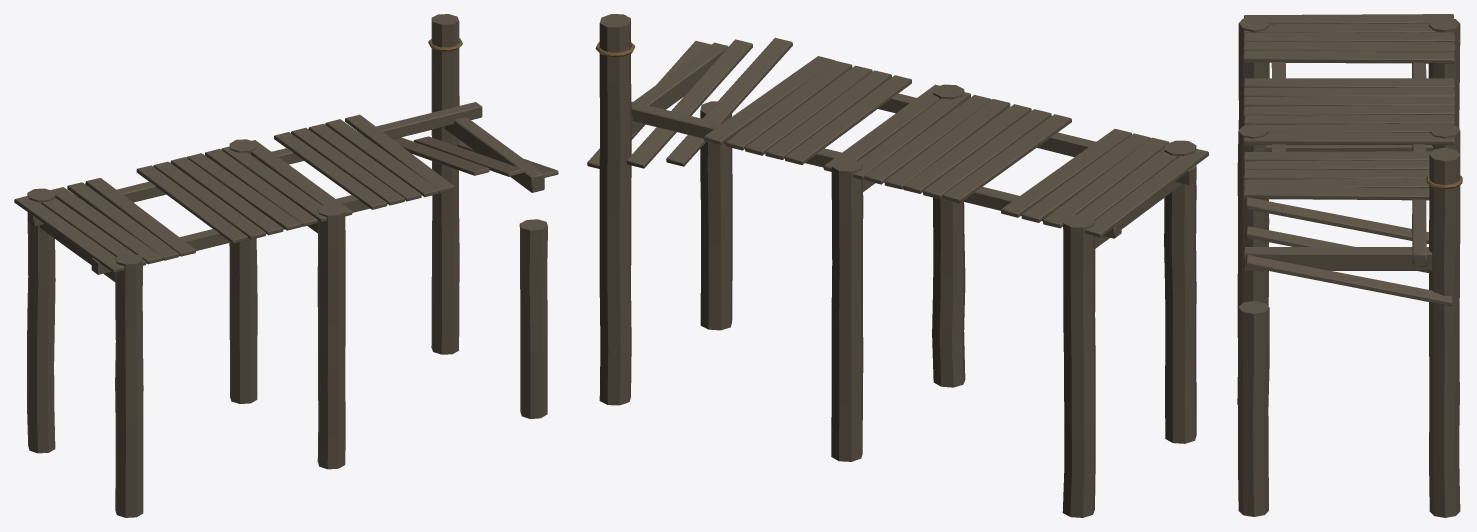
The model's file is steg_kaputt.glb.
The picture shows the model from 3 angles, left to right: view 1: azimuth 30°, elevation 25°; view 2: azimuth 150°, elevation 25°; view 3: azimuth 270°, elevation 25°; orthographic projection. The views are drawn at different scales.
Parts seen in each view (by area): view 1: steg_kaputt; view 2: steg_kaputt; view 3: steg_kaputt.
Boxes of the visible parts, x1,y1,x2,y2 form: steg_kaputt: [14, 14, 558, 517]; steg_kaputt: [587, 14, 1208, 517]; steg_kaputt: [1237, 14, 1462, 517].
Size of the model in its own units: 4 by 2.81 by 1.6.
